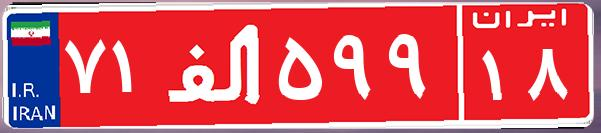1: (475, 38, 525, 113), (110, 28, 158, 105)
5: (273, 28, 330, 110)
7: (57, 26, 110, 107)
8: (525, 38, 570, 115)
9: (385, 28, 445, 110), (330, 28, 385, 110)
الف: (158, 15, 273, 115)
